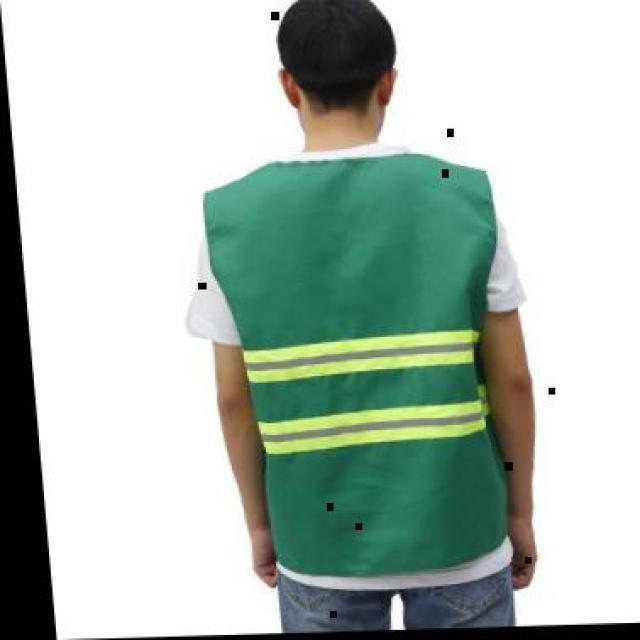safety_helmet: (187, 146, 523, 590)
